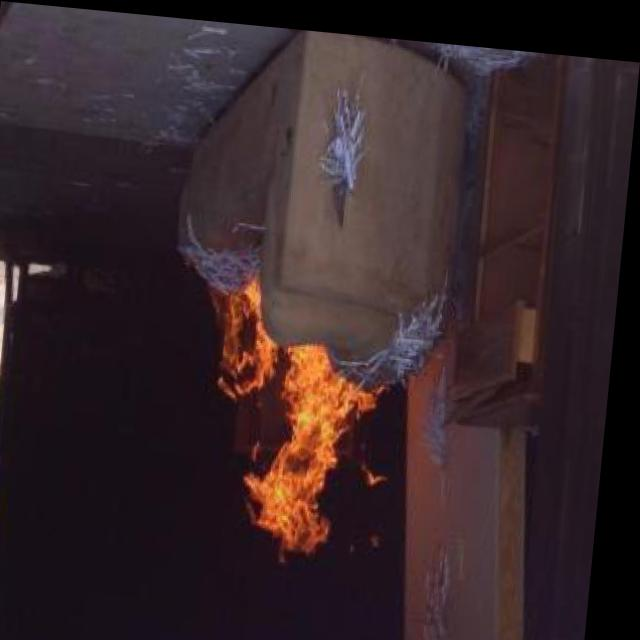Fire: (170, 266, 386, 576)
